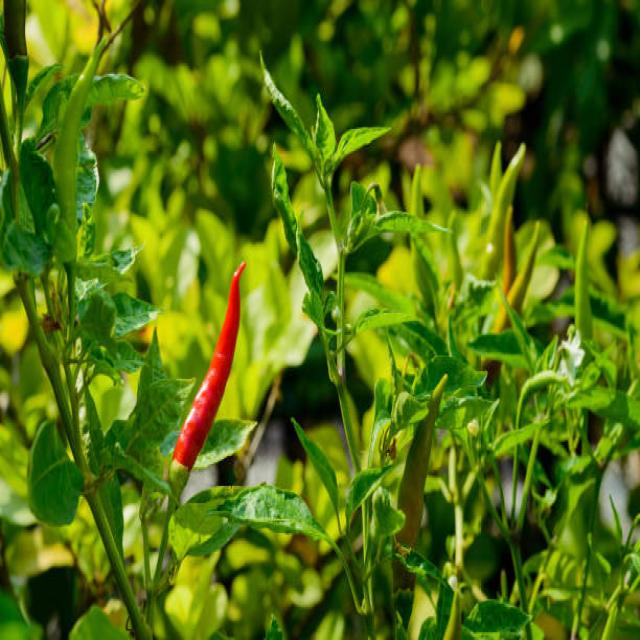Ripe: (172, 261, 244, 471)
Unripe: (51, 30, 112, 266), (398, 374, 447, 546)
